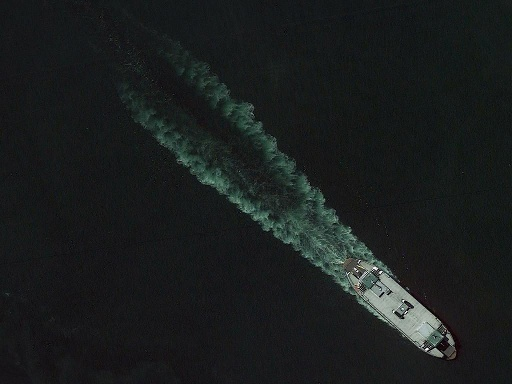ship: (331, 246, 468, 372)
